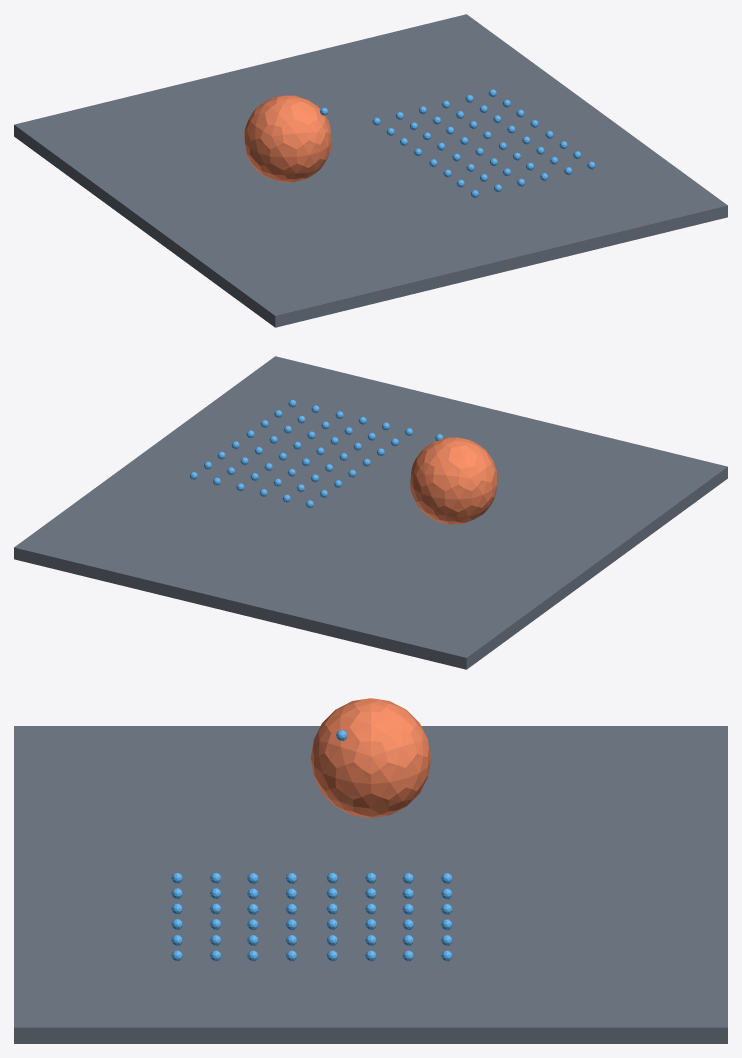
The model's file is ConstraintFixed.glb.
3 views of the same model, one above another, from view 1: azimuth 30°, elevation 25°; view 2: azimuth 150°, elevation 25°; view 3: azimuth 270°, elevation 25° (orthographic). The views are drawn at different scales.
Visible parts, largest first — view 1: Ground.001, Large.001; view 2: Ground.001, Large.001; view 3: Ground.001, Large.001.
Boxes of the visible parts, box(x1,y1,x2,y2) form: Ground.001: box(14, 14, 727, 327); Large.001: box(244, 95, 331, 182); Ground.001: box(14, 356, 727, 669); Large.001: box(410, 437, 497, 524); Ground.001: box(14, 726, 727, 1043); Large.001: box(311, 698, 430, 818).
Size of what is drawn, in the model's own units: 12 by 2.49 by 12.
